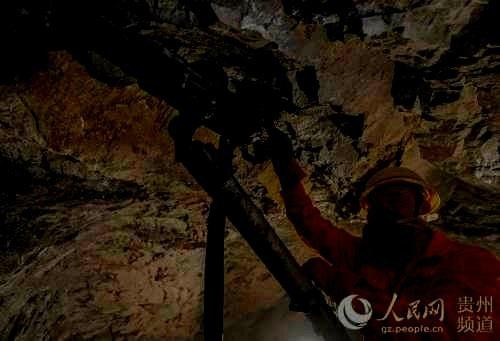helmet: (359, 167, 440, 249)
